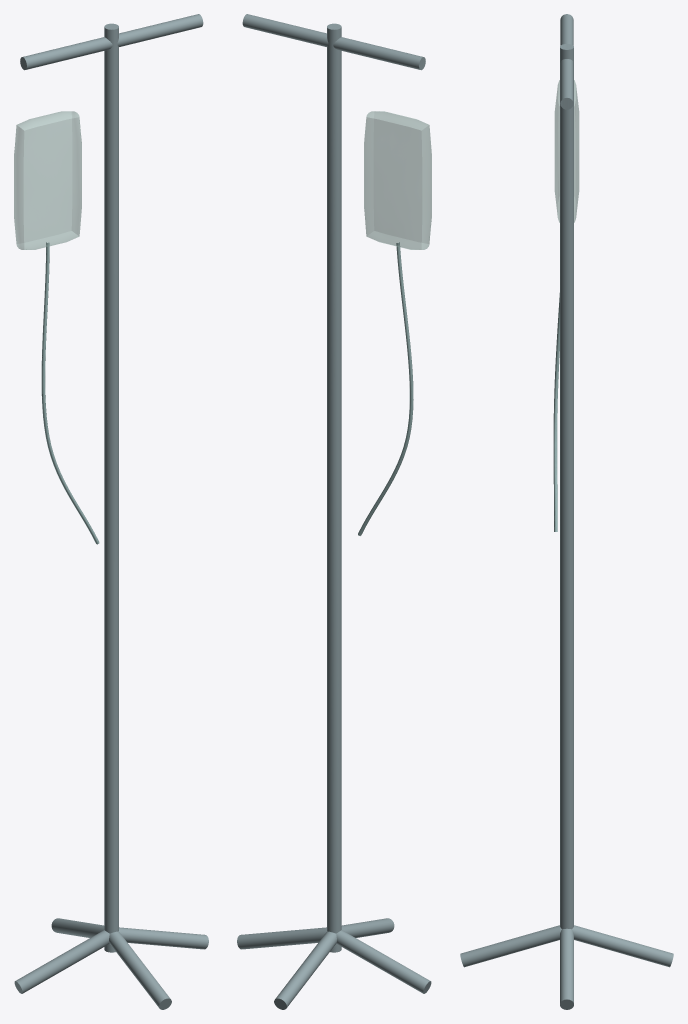
The model's file is iv-pole.glb.
The picture shows the model from 3 angles, left to right: view 1: azimuth 30°, elevation 25°; view 2: azimuth 150°, elevation 25°; view 3: azimuth 270°, elevation 25°; orthographic projection. The views are drawn at different scales.
Parts seen in each view (by area): view 1: iv-pole; view 2: iv-pole; view 3: iv-pole.
Part boxes in pixels (x1,y1,x2,y2): iv-pole: (14,14,208,1009); iv-pole: (237,14,431,1009); iv-pole: (460,14,673,1009).
Bounding box in the file's own units: 0.3889 × 1.84 × 0.3878.
Materials: 8 (8 with a texture image).
